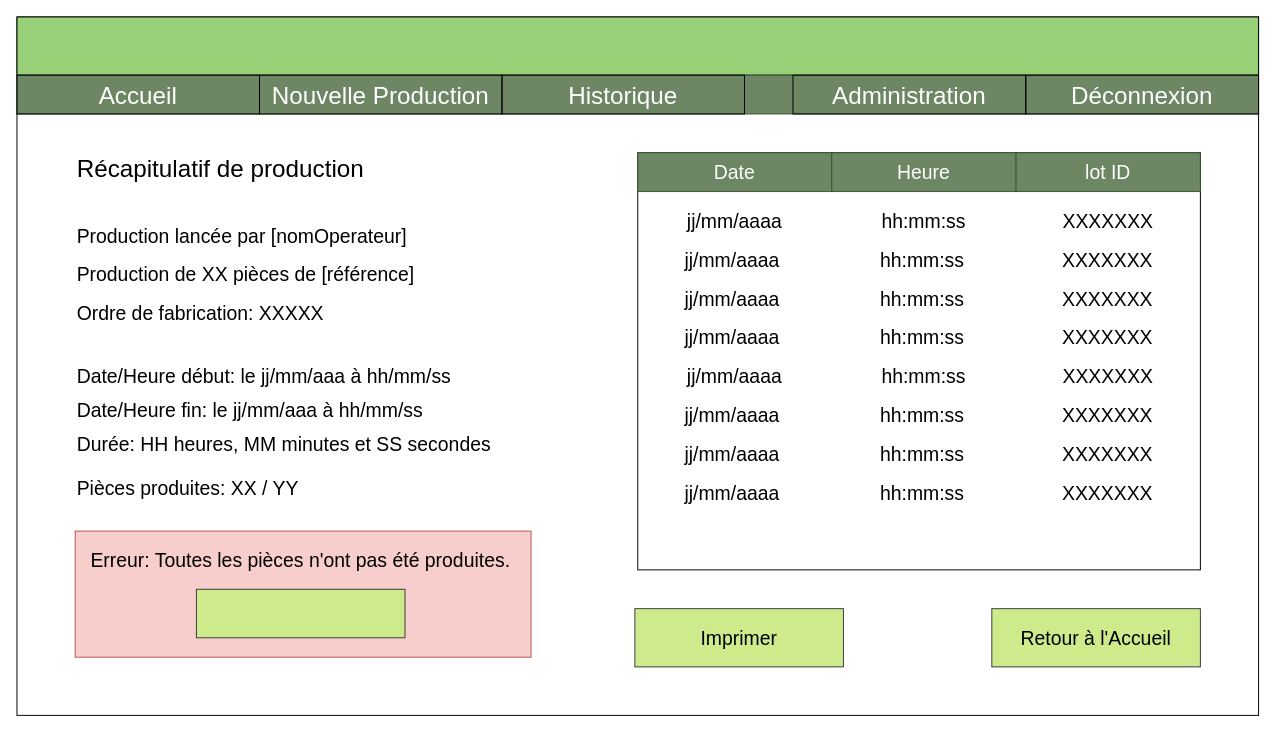
This 1276x732 diagram has some shape labels left out. Each missing label, with the centre of its shape:
"Gestion de production" goes at point (637, 45).
"Reprendre" goes at point (300, 613).
